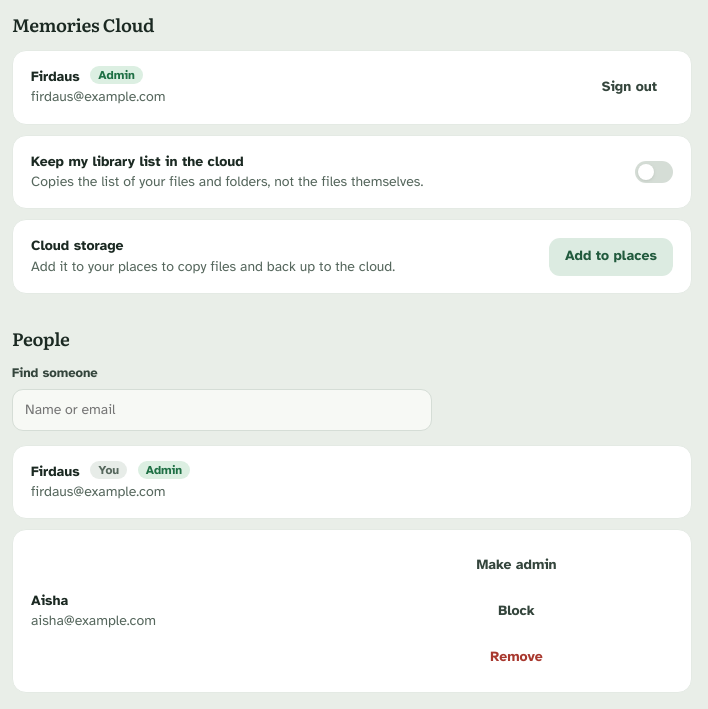
CloudSettings › lets an admin manage people, but not remove themselves
The width and height of the screenshot is (708, 709).
Expected: the text "aisha@example.com" is shown, x1=31 y1=612 x2=156 y2=629
Click the button "Make admin".
click(516, 565)  # box x1=460 y1=546 x2=573 y2=584
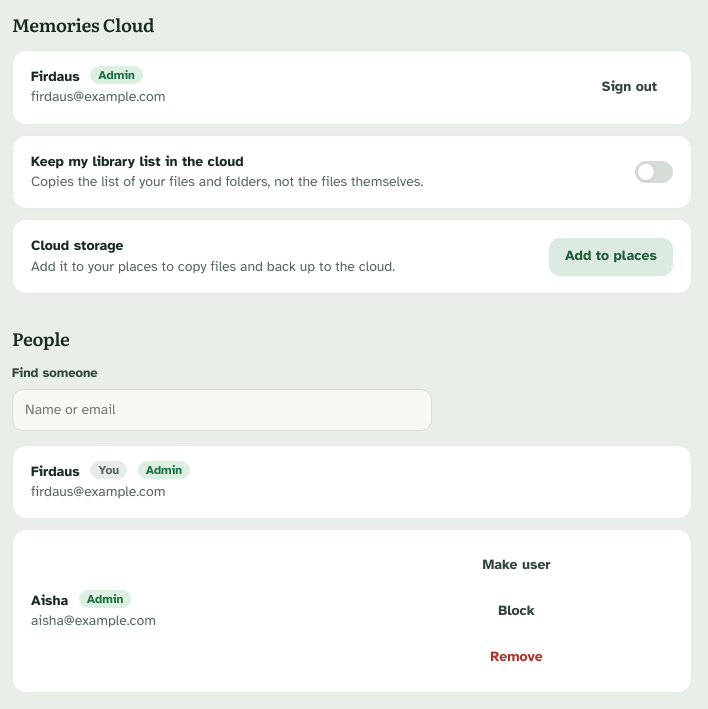
Click the button "Block".
click(516, 611)  # box x1=482 y1=592 x2=551 y2=630
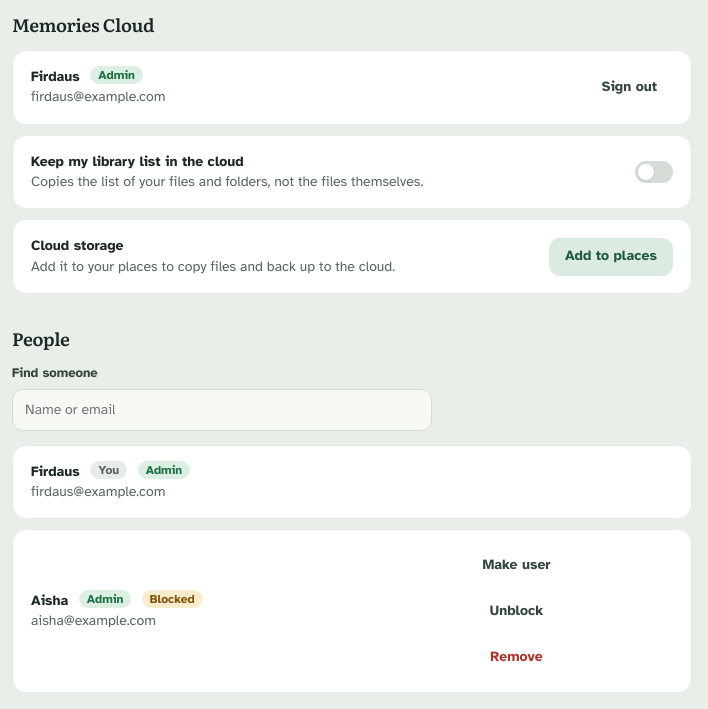
Click the button "Remove".
click(516, 657)  # box x1=474 y1=638 x2=559 y2=676
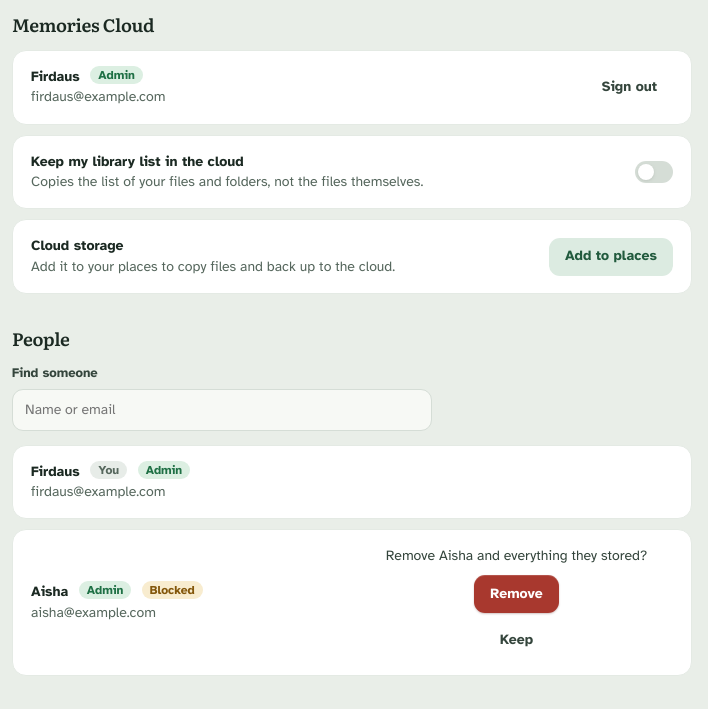
Click the button "Remove".
click(516, 594)  # box x1=474 y1=575 x2=559 y2=613
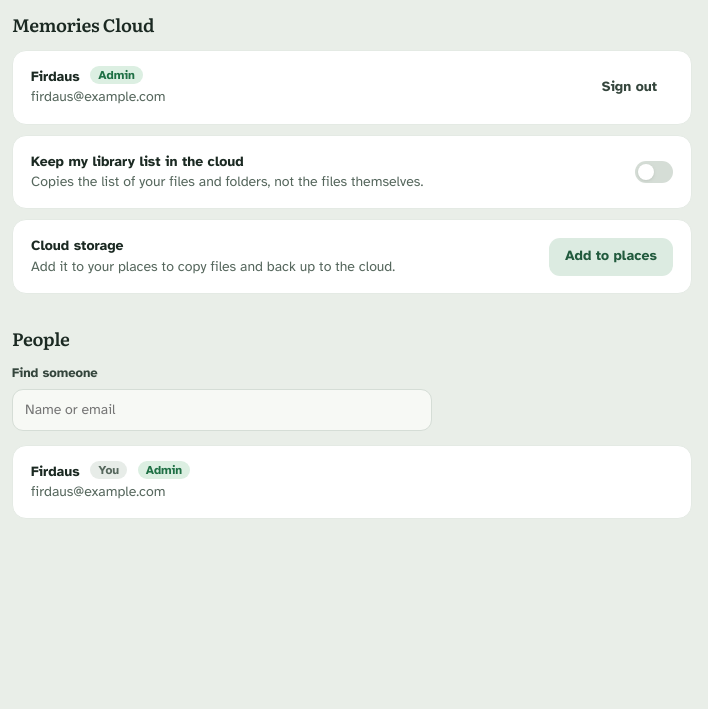
Expected: the text "aisha@example.com" is gone
